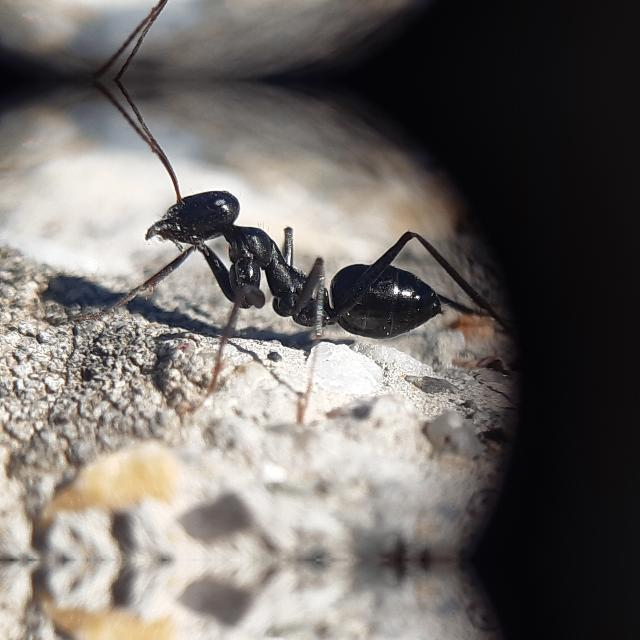Cataglyphis: (121, 158, 478, 376)
